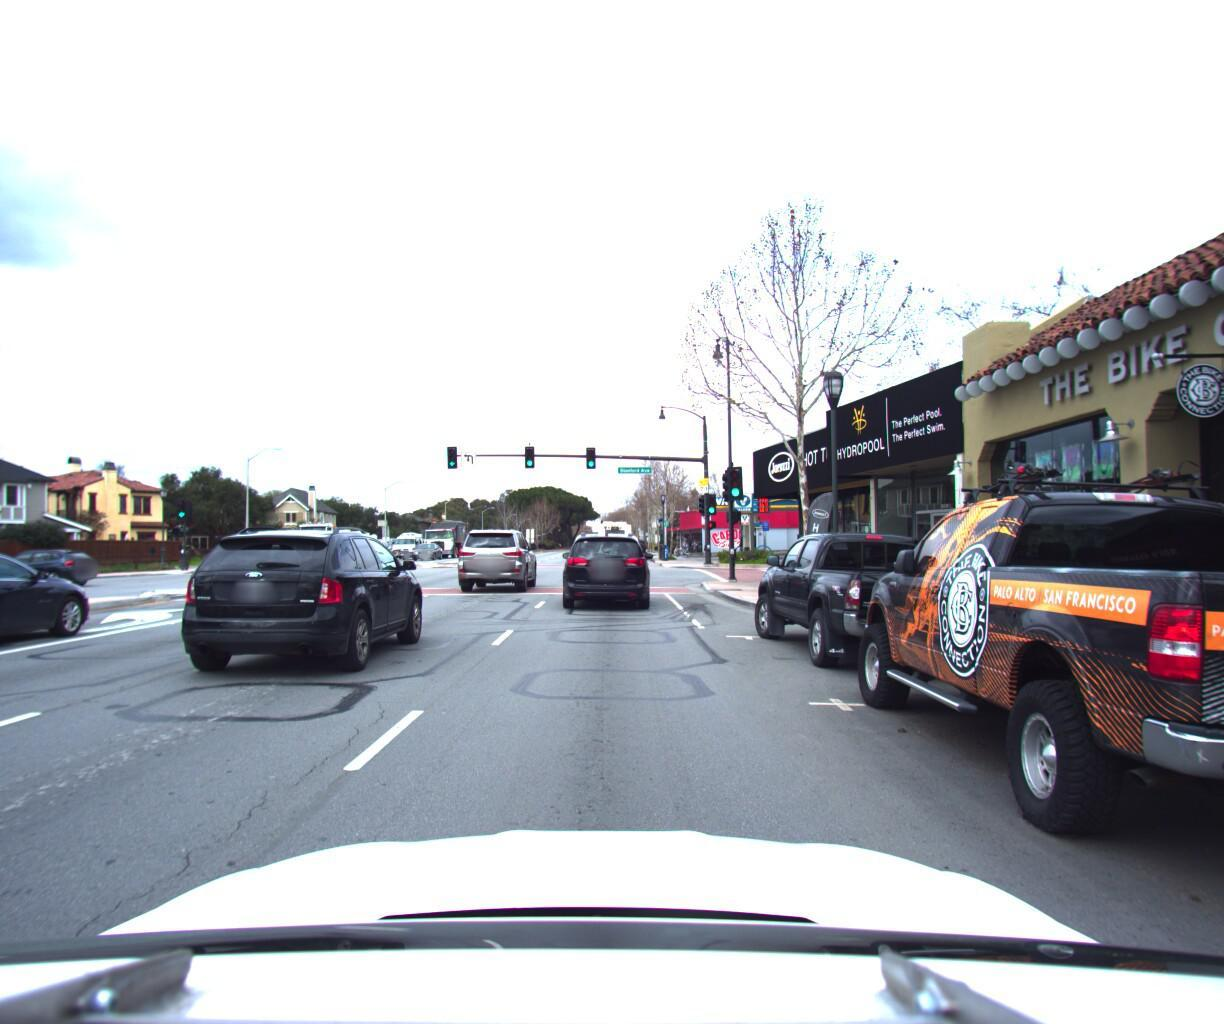car: (835, 423, 1224, 955), (748, 519, 1024, 691), (181, 520, 440, 687), (0, 542, 105, 673), (560, 521, 654, 607), (456, 520, 545, 589), (0, 542, 109, 581), (392, 525, 431, 554)
other_vehicle: (325, 519, 377, 556)
truck: (276, 511, 405, 564), (421, 509, 477, 552), (596, 513, 634, 546)
